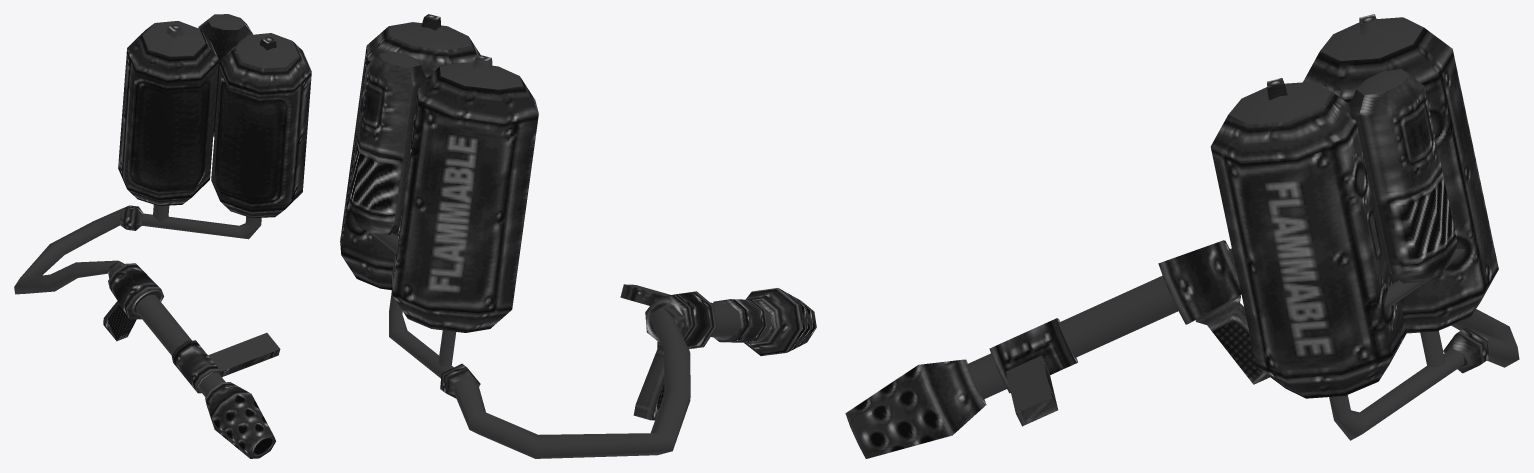
The model's file is p_egon.glb.
The picture shows the model from 3 angles, left to right: view 1: azimuth 30°, elevation 25°; view 2: azimuth 150°, elevation 25°; view 3: azimuth 270°, elevation 25°; orthographic projection. The views are drawn at different scales.
Visible parts, largest first — view 1: p_egon; view 2: p_egon; view 3: p_egon.
Boxes of the visible parts, box(x1,y1,x2,y2) form: p_egon: box(14, 14, 311, 458); p_egon: box(340, 14, 816, 458); p_egon: box(845, 14, 1519, 458).
Size of the model in its own units: 28.05 by 31.2 by 38.41.
Materials: 2 (2 with a texture image).
